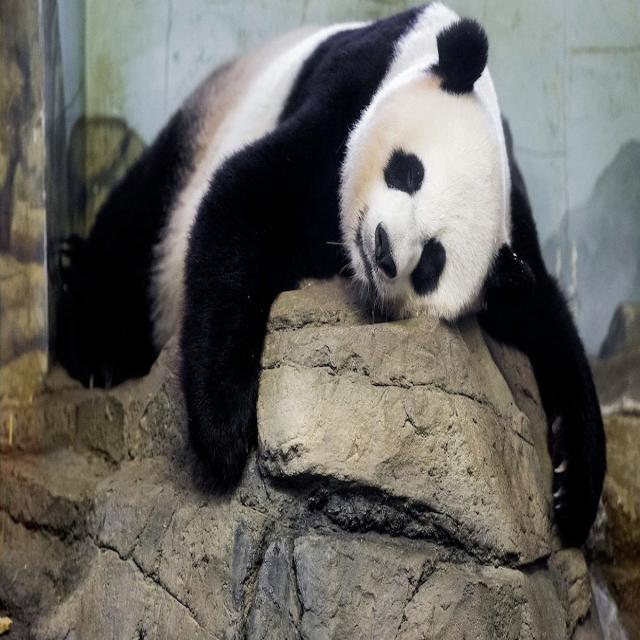panda: (57, 3, 605, 543)
